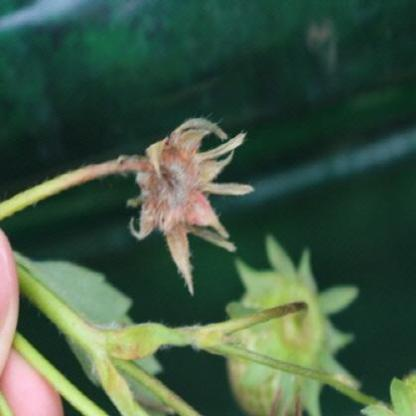Strawberry_Gray_Mold: (115, 117, 254, 299)
